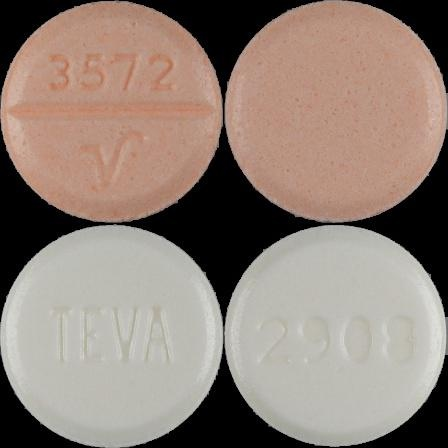0615-1562: (0, 0, 224, 224)
